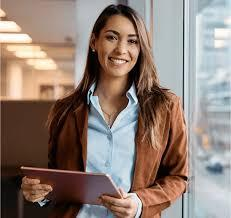person: (85, 0, 156, 85)
